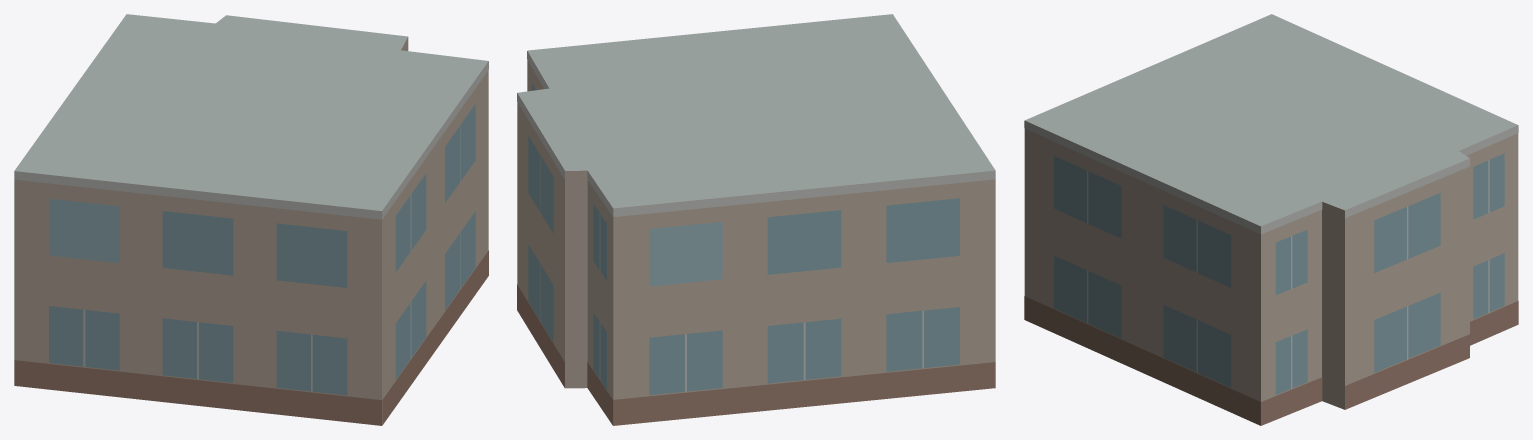
File: survey-upis-32777084.glb
3 views of the same model, side by side, from view 1: azimuth 30°, elevation 25°; view 2: azimuth 150°, elevation 25°; view 3: azimuth 270°, elevation 25° (orthographic). The views are drawn at different scales.
Parts seen in each view (by area): view 1: survey-upis-32777084.tmp; view 2: survey-upis-32777084.tmp; view 3: survey-upis-32777084.tmp.
Boxes of the visible parts, x1,y1,x2,y2 form: survey-upis-32777084.tmp: (14,14,488,425); survey-upis-32777084.tmp: (517,14,995,425); survey-upis-32777084.tmp: (1024,14,1518,425).
Size of the model in its own units: 13.94 by 6.1 by 13.7.
